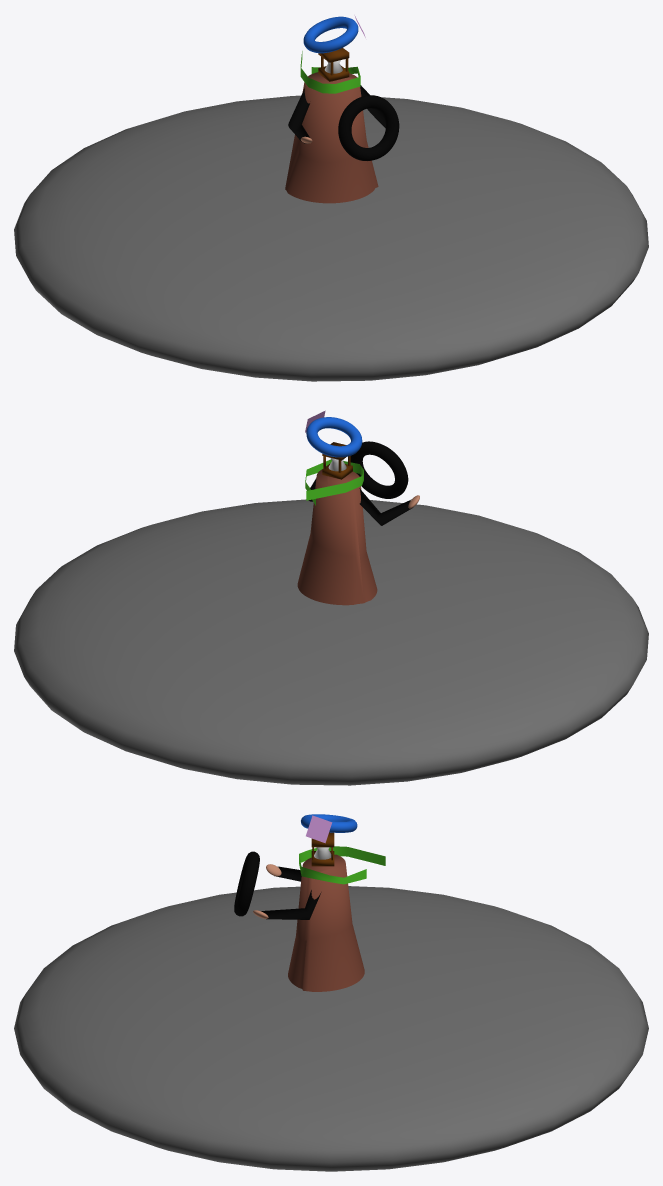
File: player.dae
3 views of the same model, one above another, from view 1: azimuth 30°, elevation 25°; view 2: azimuth 150°, elevation 25°; view 3: azimuth 270°, elevation 25° (orthographic).
Visible parts, largest first — view 1: ufo, person, wheel, headtorus, bowscarf, hourglass, Circle; view 2: ufo, person, wheel, headtorus, bowscarf, Circle, hourglass; view 3: ufo, person, bowscarf, wheel, Circle, hourglass, headtorus.
Boxes of the visible parts, x1=… form: ufo: x1=14, y1=95, x2=648, y2=381; person: x1=285, y1=72, x2=378, y2=203; wheel: x1=338, y1=95, x2=399, y2=160; headtorus: x1=303, y1=16, x2=358, y2=53; bowscarf: x1=300, y1=51, x2=360, y2=93; hourglass: x1=318, y1=48, x2=349, y2=81; Circle: x1=288, y1=85, x2=385, y2=143; ufo: x1=14, y1=499, x2=648, y2=785; person: x1=297, y1=469, x2=377, y2=605; wheel: x1=350, y1=441, x2=408, y2=498; headtorus: x1=306, y1=417, x2=362, y2=457; bowscarf: x1=305, y1=459, x2=363, y2=505; Circle: x1=308, y1=478, x2=413, y2=525; hourglass: x1=322, y1=442, x2=352, y2=479; ufo: x1=14, y1=886, x2=648, y2=1171; person: x1=288, y1=854, x2=364, y2=991; bowscarf: x1=299, y1=846, x2=385, y2=884; wheel: x1=234, y1=851, x2=259, y2=916; Circle: x1=261, y1=866, x2=321, y2=919; hourglass: x1=311, y1=832, x2=334, y2=866; headtorus: x1=301, y1=814, x2=357, y2=832.
Bounding box in the file's own units: 13.25 × 13.25 × 6.24.
